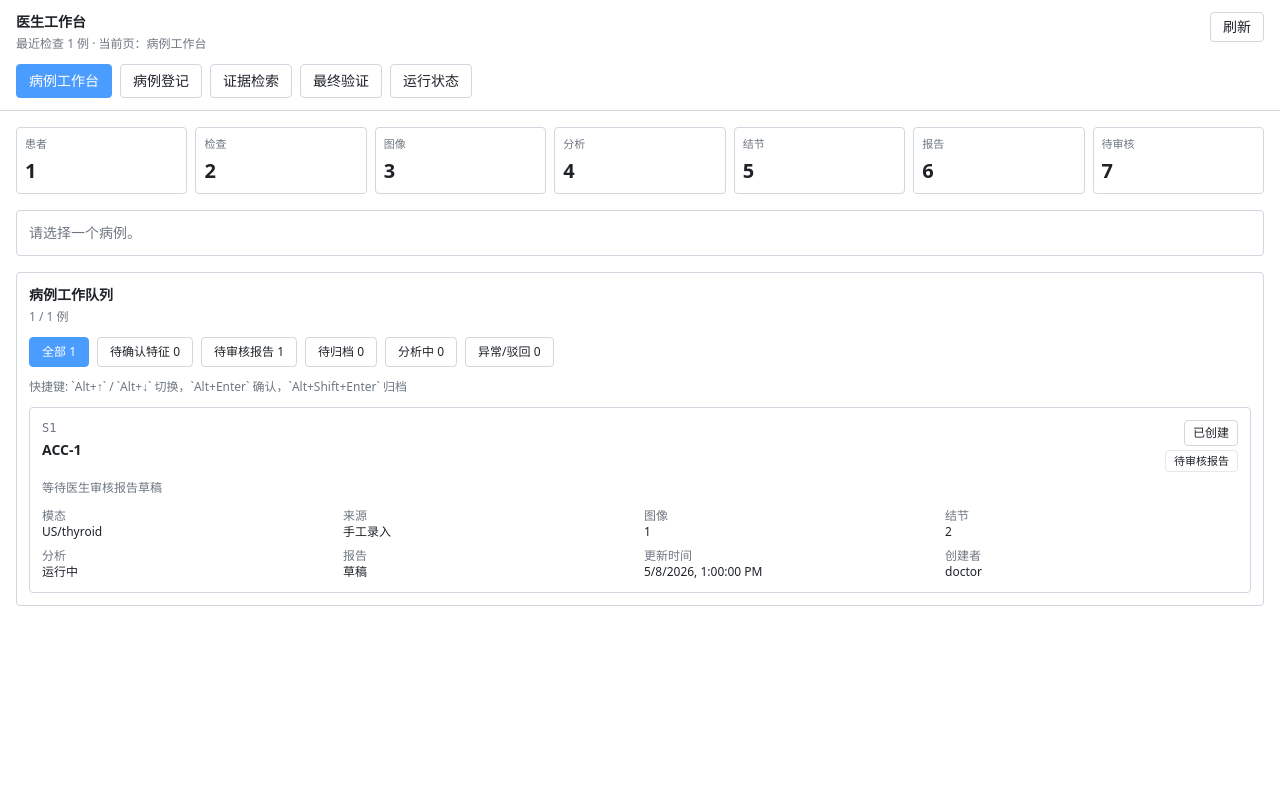
it: MedicalPanel › prefers server revision evidence when the bundle provides task-chain attribution
Expected: the heading "ACC-1" is shown, [42,440,82,460]
Click the button "ACC-1" at (640, 500), box [29,406,1251,593]
(page scrolled)
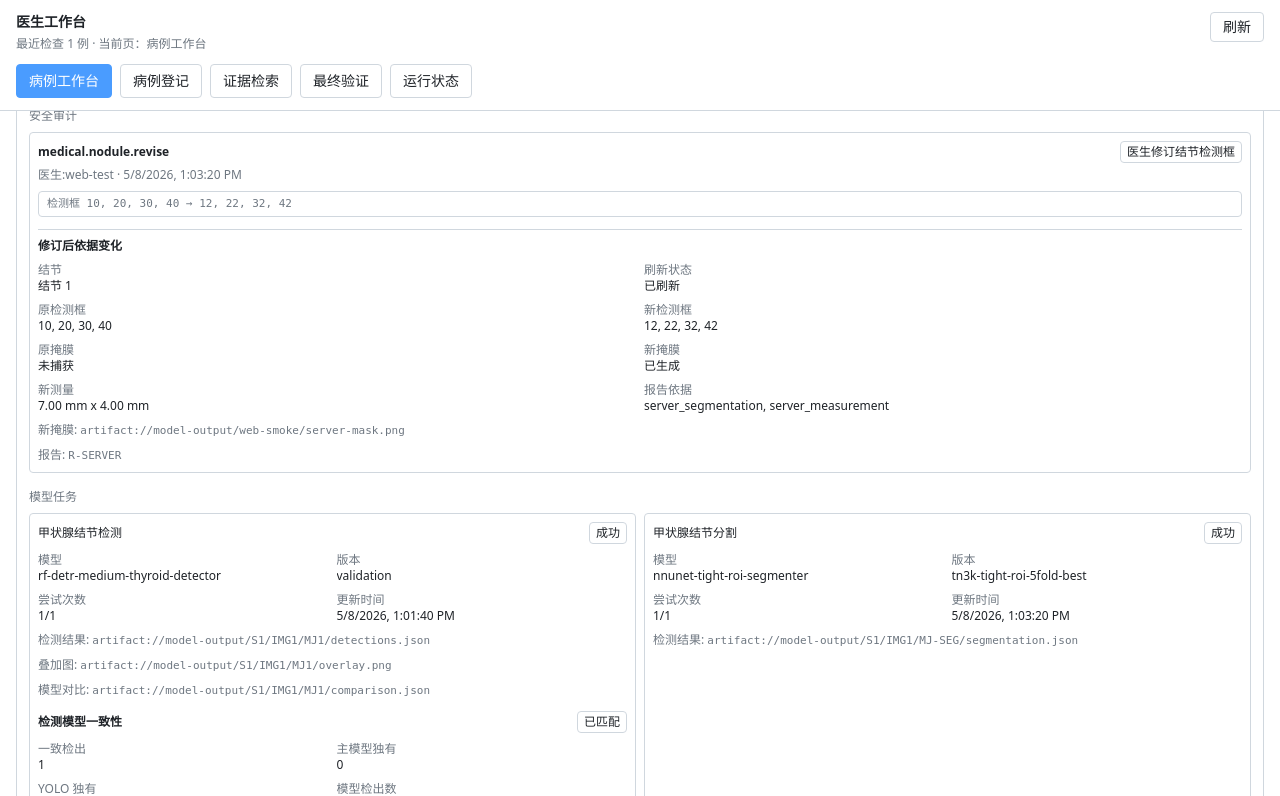
Now the text "修订后依据变化" is shown, box [38,236,122,254]
Now the text "已刷新" is shown, box [644,276,680,294]
Now the text "7.00 mm x 4.00 mm" is shown, box [38,396,149,414]
